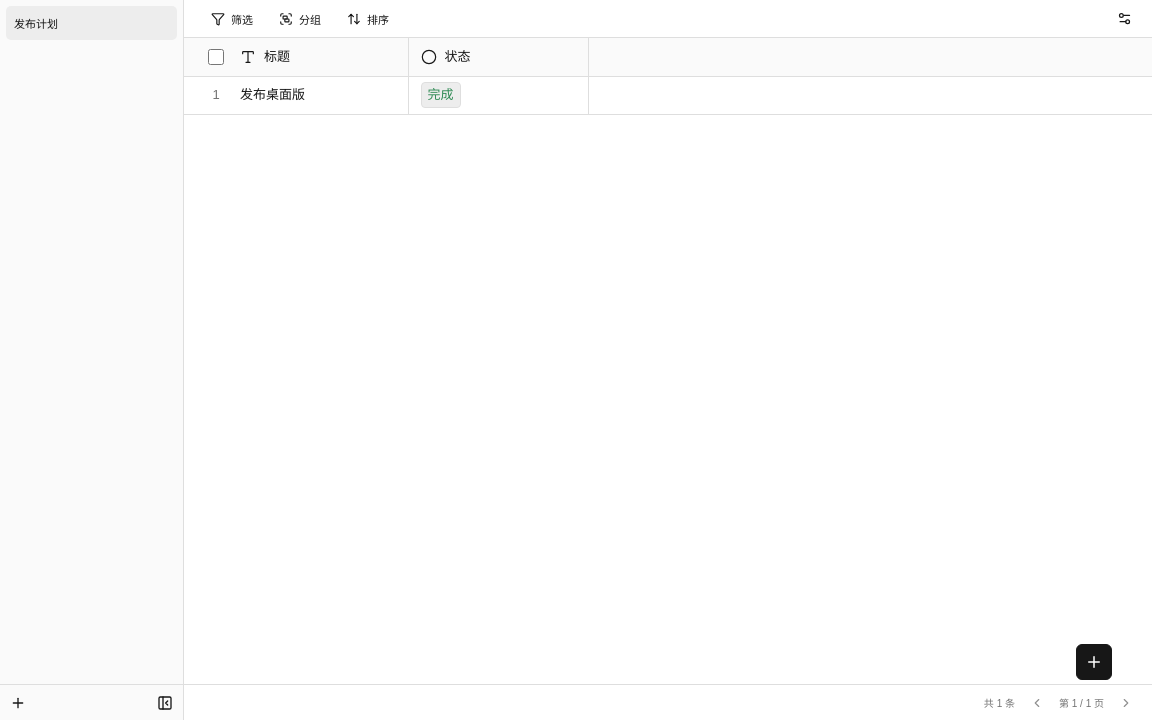
Test: TaskWorkbenchPage › does not add a record until Main confirms creation
Expected: the table named "发布计划" is shown, x1=184 y1=38 x2=1151 y2=115
Click the button named "新增记录" at (1094, 662), box x1=1076 y1=644 x2=1112 y2=680
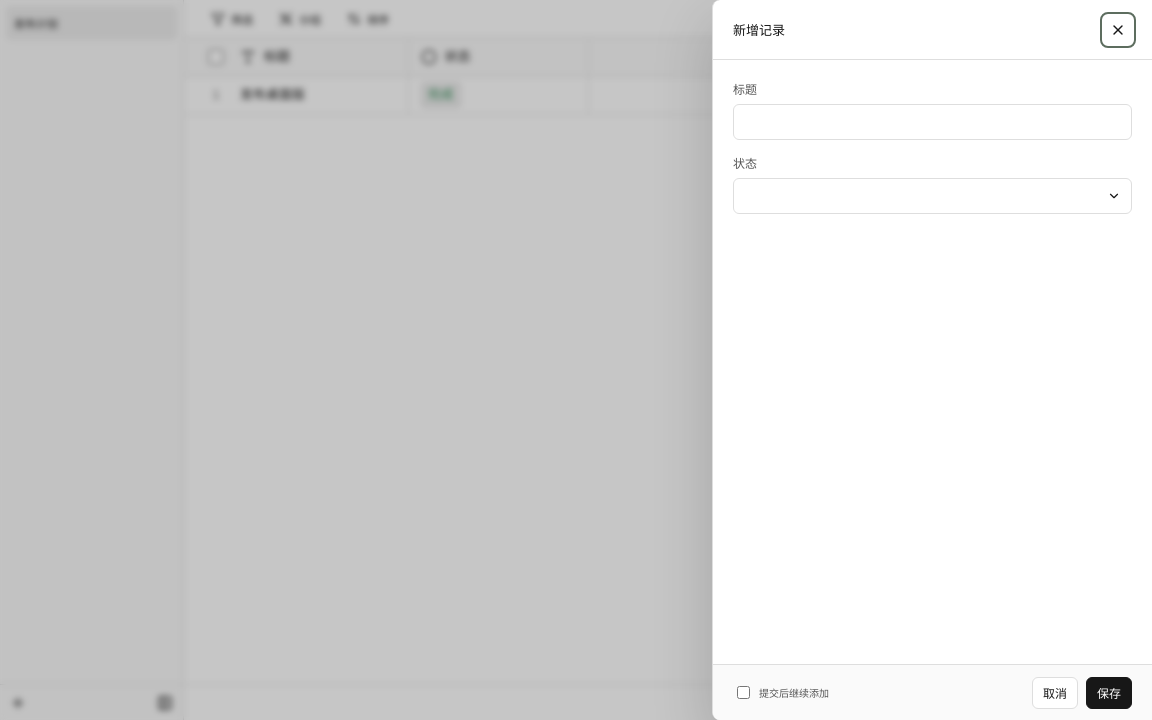
Now the element with class "ui-drawer__body" is shown, box x1=733 y1=83 x2=1132 y2=214
Type "准备发布说明" into the field labelled "标题" at (932, 122), box x1=733 y1=104 x2=1132 y2=140
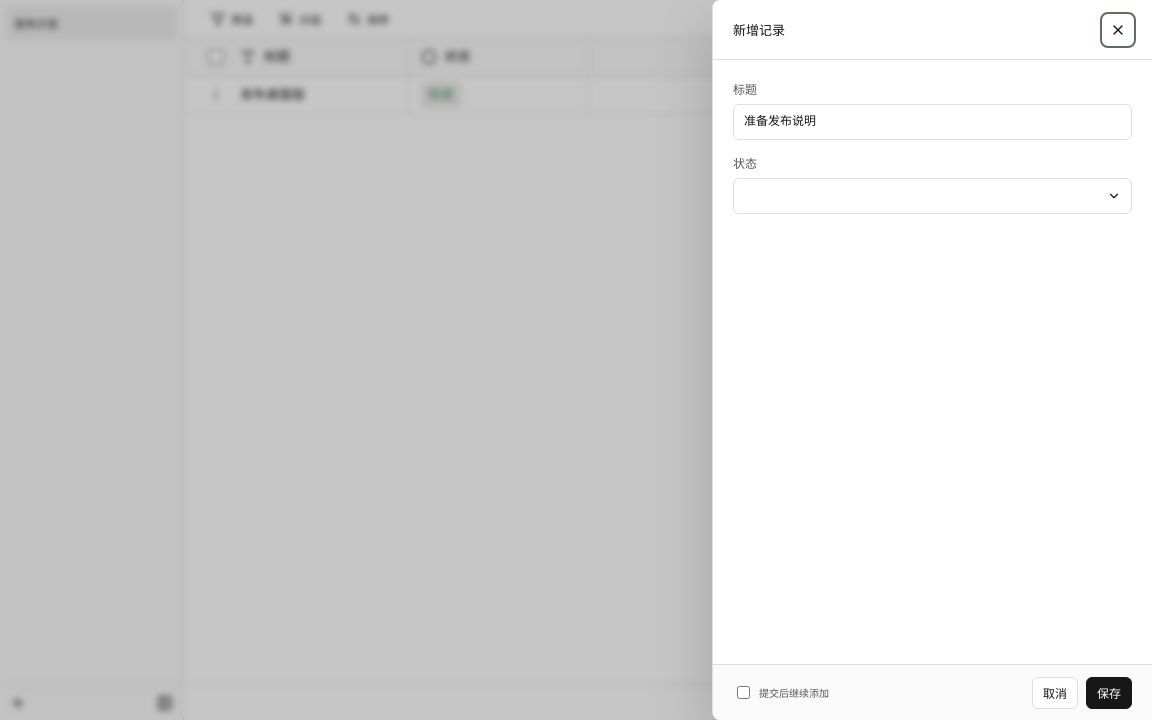
Click the button "保存" at (1109, 692), box x1=1086 y1=676 x2=1132 y2=708
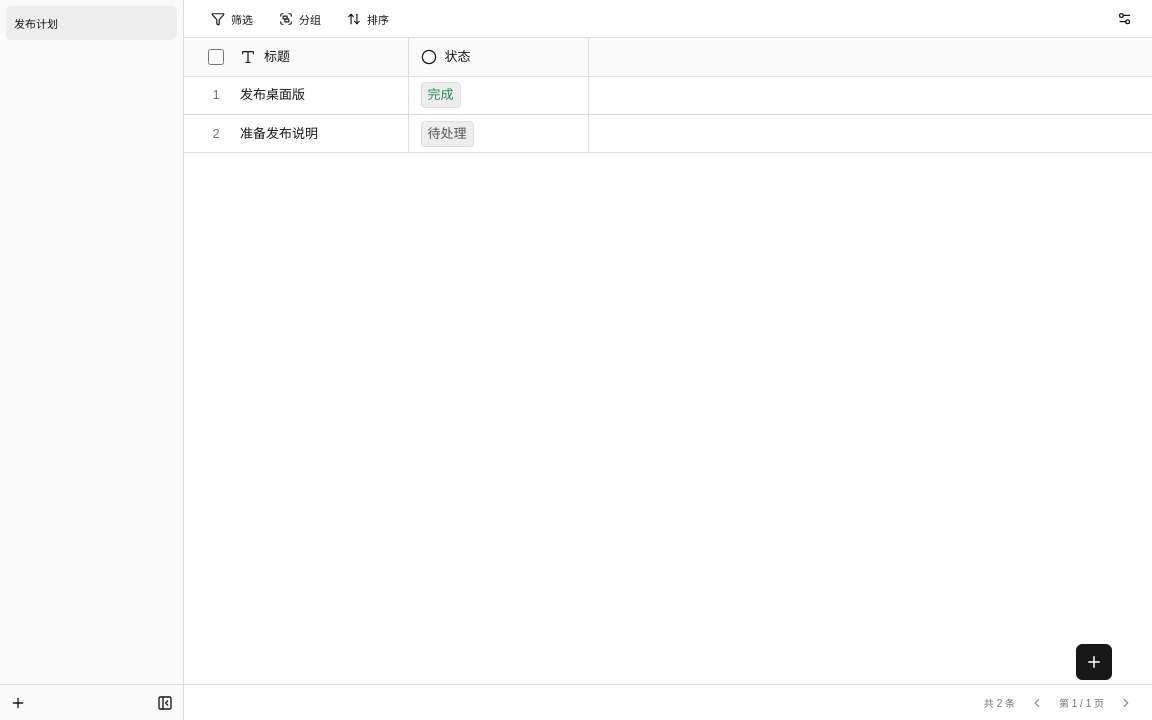
Now the button "准备发布说明" is shown, box x1=228 y1=115 x2=408 y2=152
